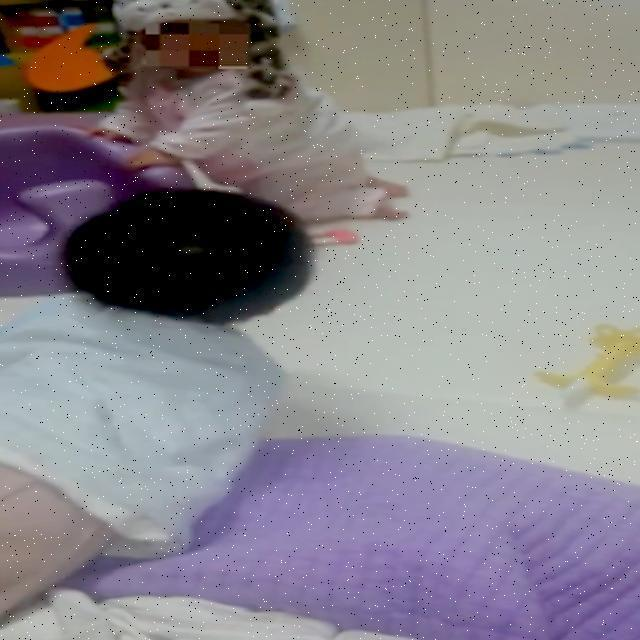child: (0, 186, 311, 640), (86, 0, 411, 223)
